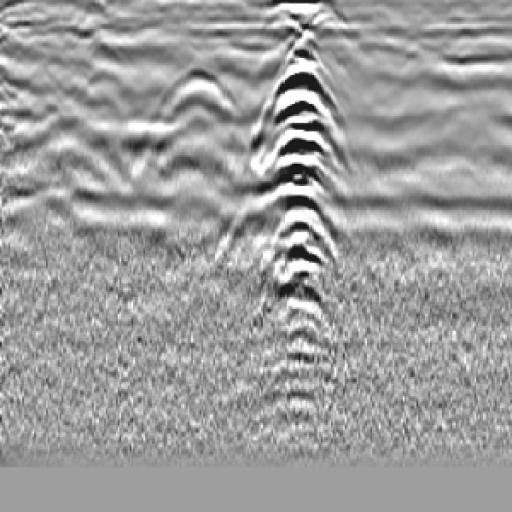metalic: (259, 29, 343, 363)
nonmetalic: (130, 66, 268, 186)
